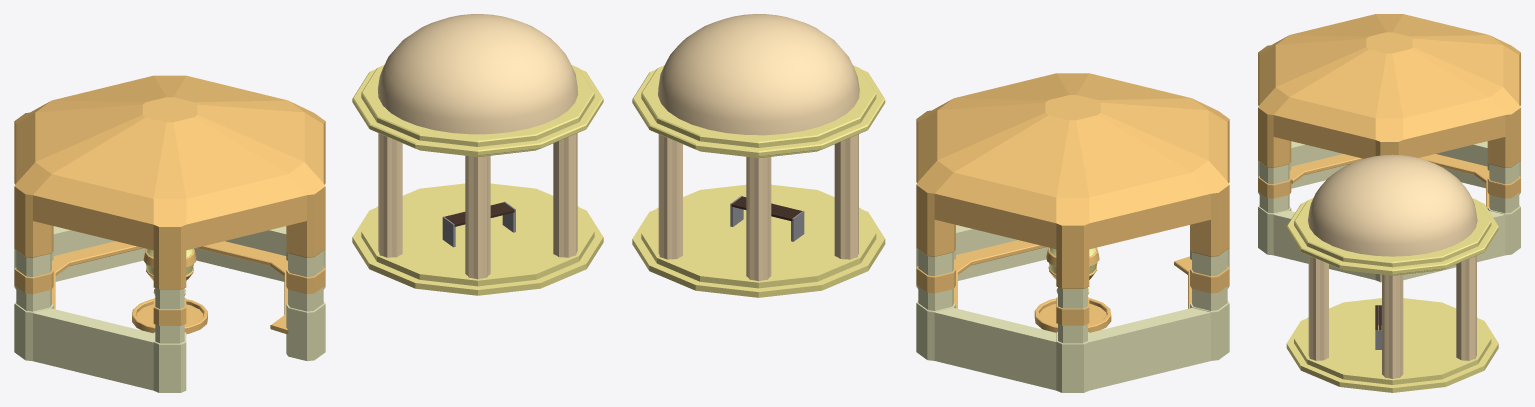
Rendered from Alcoves.fbx.
3 views of the same model, side by side, from view 1: azimuth 30°, elevation 25°; view 2: azimuth 150°, elevation 25°; view 3: azimuth 270°, elevation 25° (orthographic). The views are drawn at different scales.
Parts seen in each view (by area): view 1: Alcove_1, Alcove_2, Alcove_2_bench; view 2: Alcove_1, Alcove_2, Alcove_2_bench; view 3: Alcove_1, Alcove_2, Alcove_2_bench.
Part boxes in pixels (bbox=[...]): Alcove_1: bbox=[14, 75, 325, 392]; Alcove_2: bbox=[352, 14, 603, 295]; Alcove_2_bench: bbox=[442, 201, 515, 247]; Alcove_1: bbox=[916, 73, 1229, 392]; Alcove_2: bbox=[632, 14, 885, 297]; Alcove_2_bench: bbox=[730, 196, 804, 241]; Alcove_1: bbox=[1258, 14, 1520, 282]; Alcove_2: bbox=[1286, 154, 1498, 392]; Alcove_2_bench: bbox=[1375, 305, 1381, 349].
Bounding box in the file's own units: 1046 × 380 × 496.
